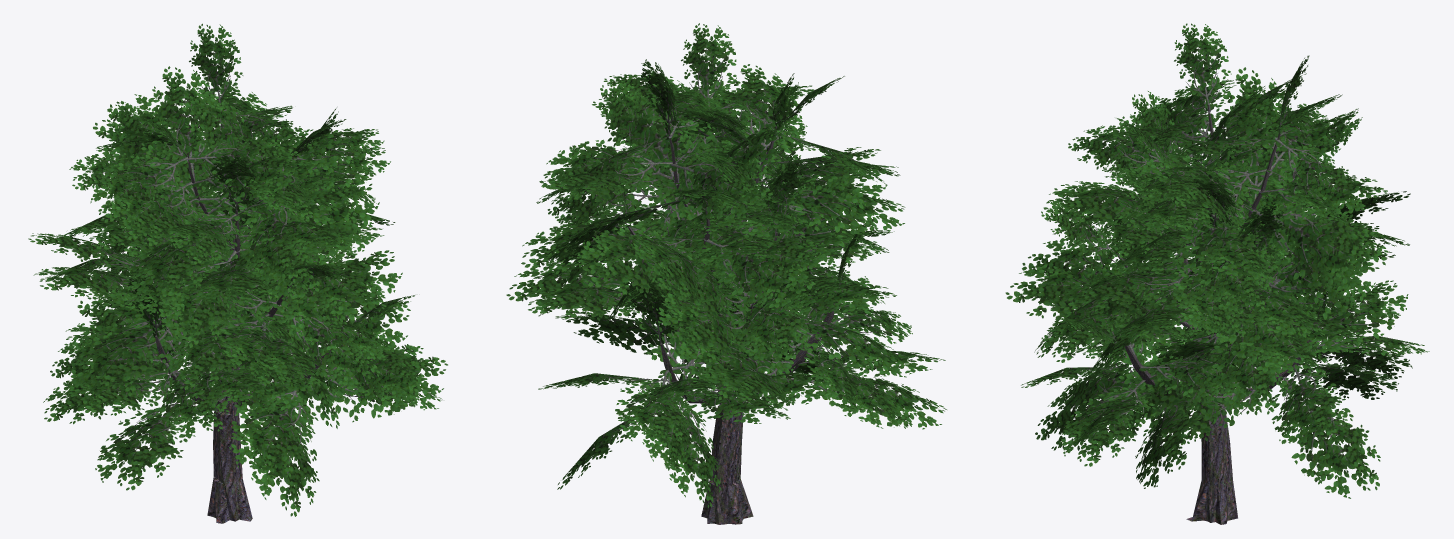
File: tree.obj
3 views of the same model, side by side, from view 1: azimuth 30°, elevation 25°; view 2: azimuth 150°, elevation 25°; view 3: azimuth 270°, elevation 25° (orthographic). The views are drawn at different scales.
Visible parts, largest first — view 1: Tree_A; view 2: Tree_A; view 3: Tree_A.
Part boxes in pixels (x1,y1,x2,y2): Tree_A: (28, 23, 447, 523); Tree_A: (506, 23, 946, 524); Tree_A: (1005, 23, 1429, 524).
Bounding box in the file's own units: 11.45 × 13.24 × 11.23.
